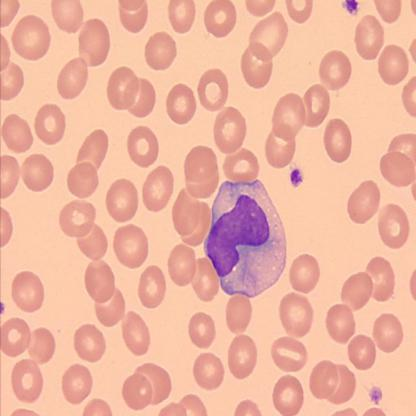Atypical lymphocyte: (204, 177, 286, 298)
